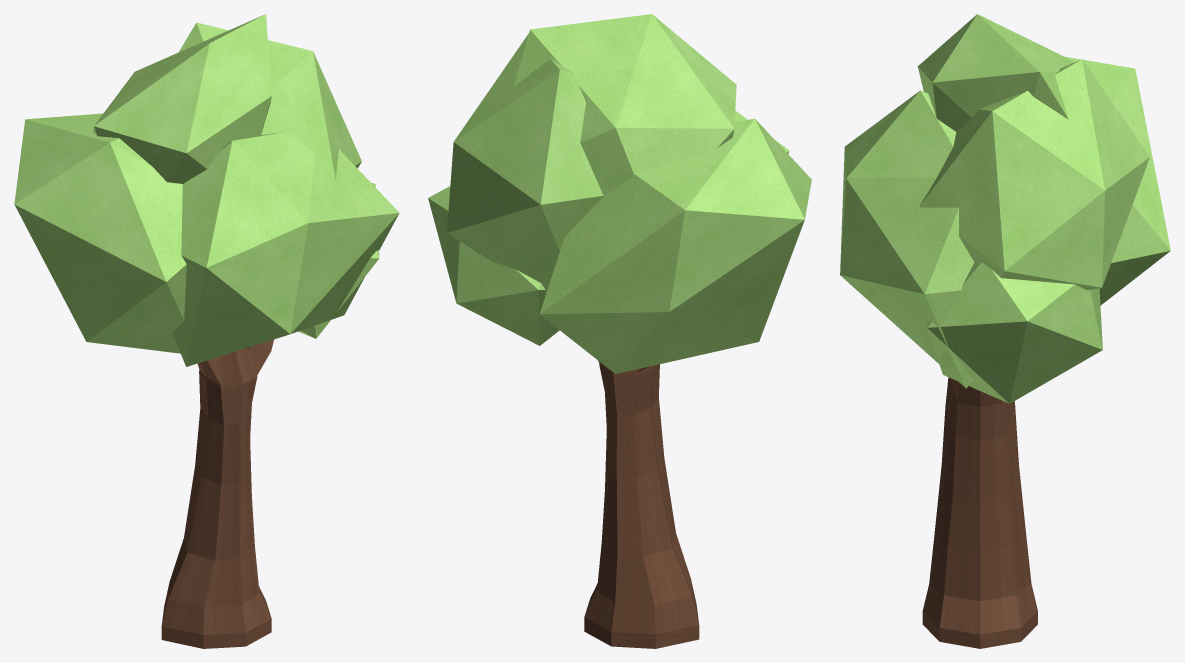
The model's file is Tree 2 .fbx.
3 views of the same model, side by side, from view 1: azimuth 30°, elevation 25°; view 2: azimuth 150°, elevation 25°; view 3: azimuth 270°, elevation 25° (orthographic). The views are drawn at different scales.
Visible parts, largest first — view 1: Cylinder; view 2: Cylinder; view 3: Cylinder.
Boxes of the visible parts, bbox=[...] form: Cylinder: bbox=[14, 14, 399, 648]; Cylinder: bbox=[428, 14, 811, 648]; Cylinder: bbox=[840, 14, 1170, 648].
Bounding box in the file's own units: 5687 × 8828 × 4369.
